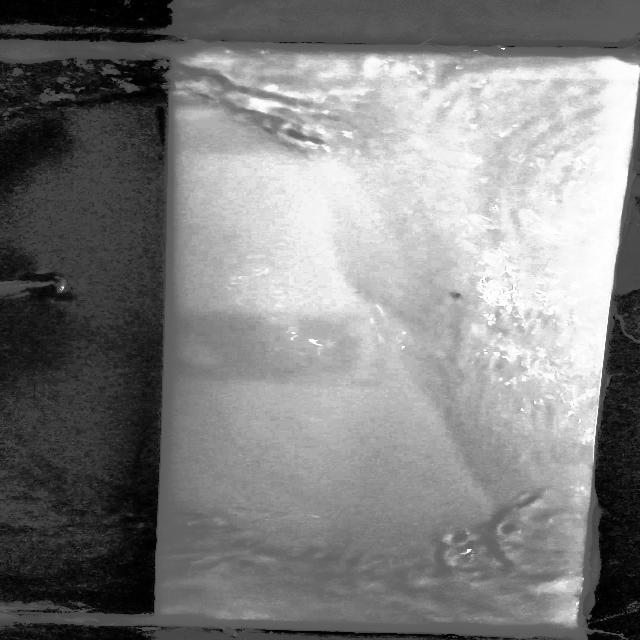shrimp: (442, 287, 470, 306)
